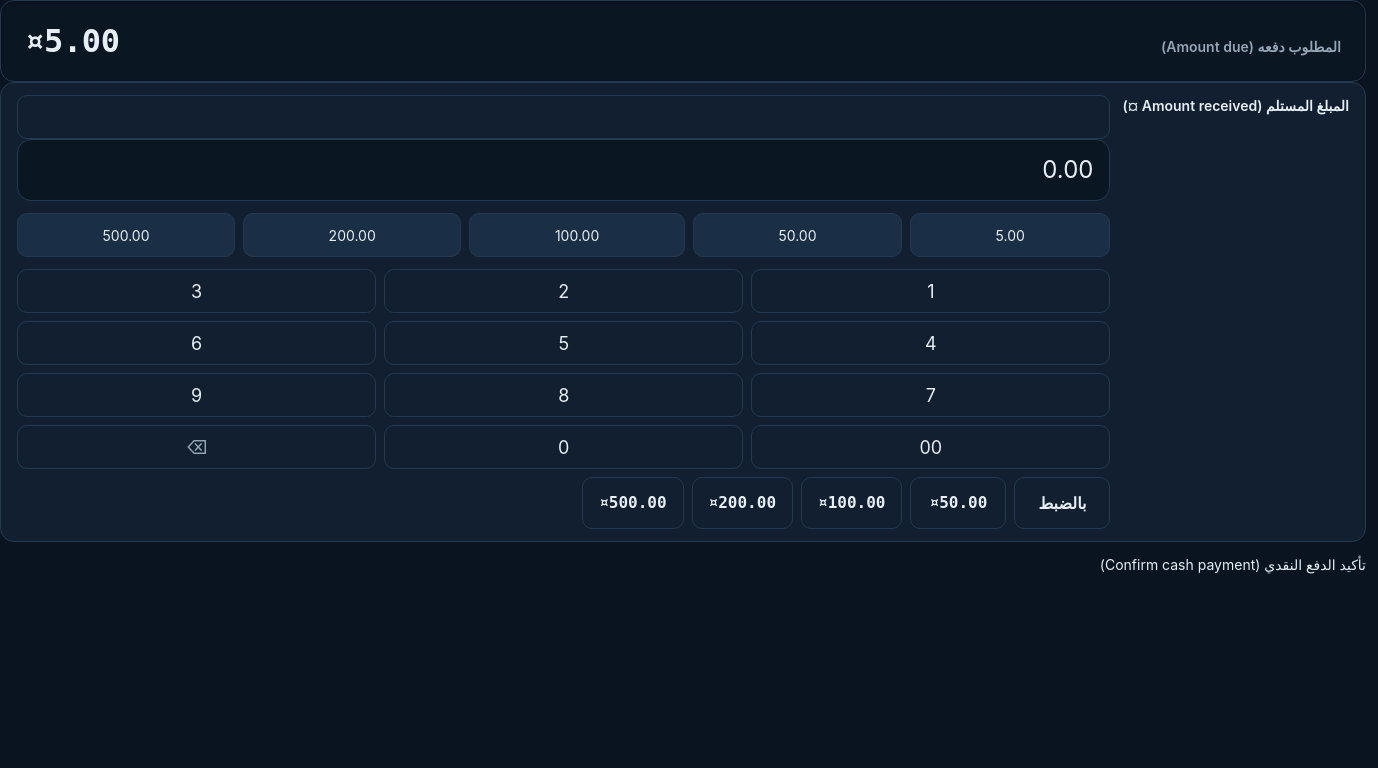
Test: <CashEntry> — AmountPad shared-state integration › pressing pad digits builds the amount and reflects in the text input
# Build 1·2·5·5·0 via the pad → 12550 minor units.
Click the button with test id "amount-pad-key-1": (931, 291) [751, 269, 1110, 313]
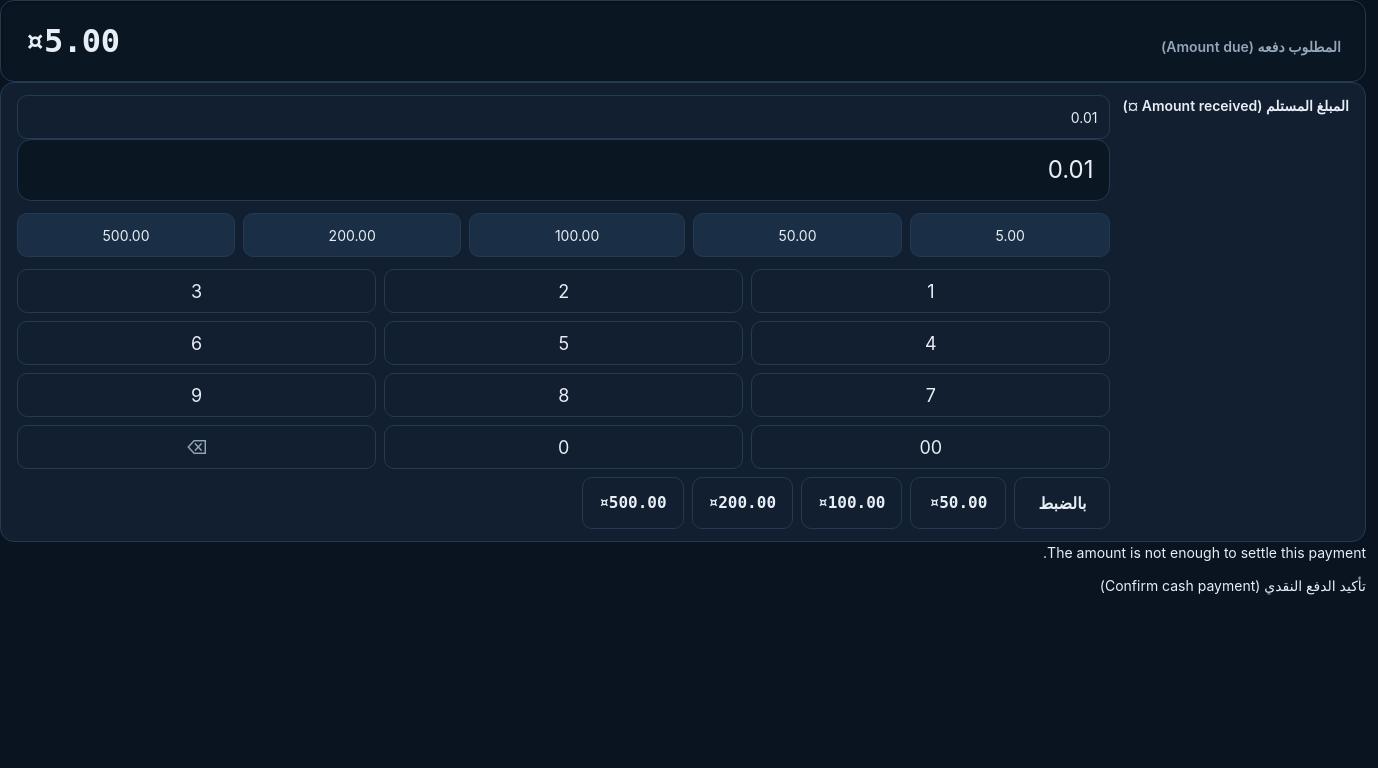
Click the button with test id "amount-pad-key-2": (564, 291) [384, 269, 743, 313]
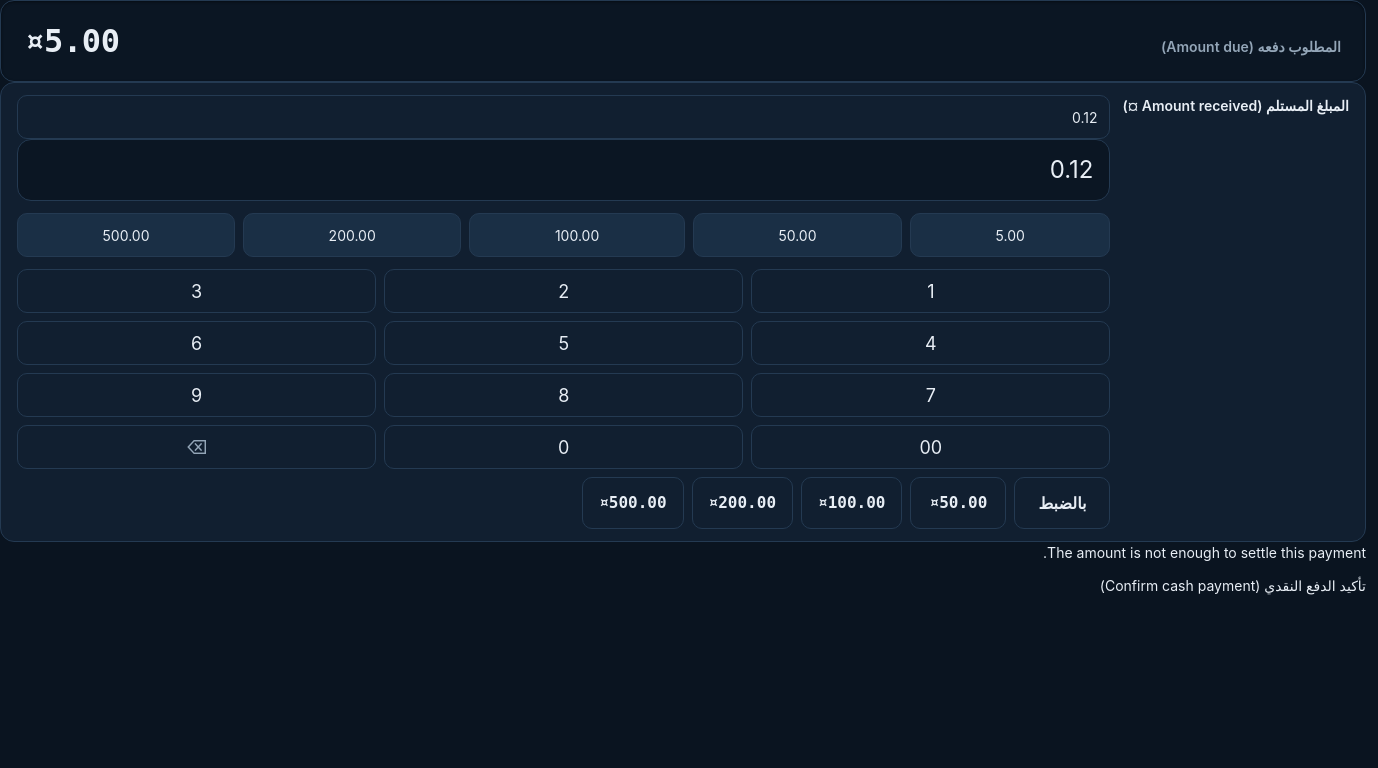
Click the button with test id "amount-pad-key-5": (564, 343) [384, 321, 743, 365]
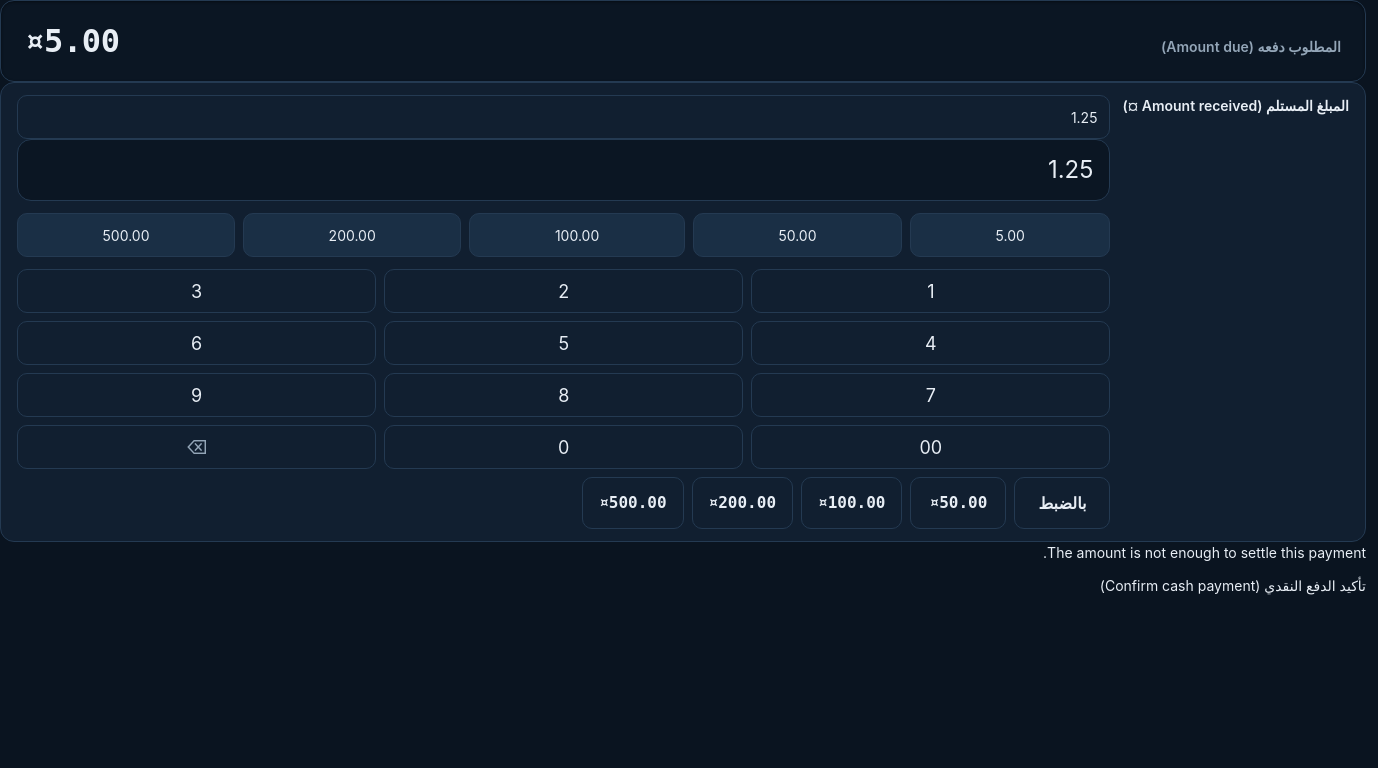
Click the button with test id "amount-pad-key-5": (564, 343) [384, 321, 743, 365]
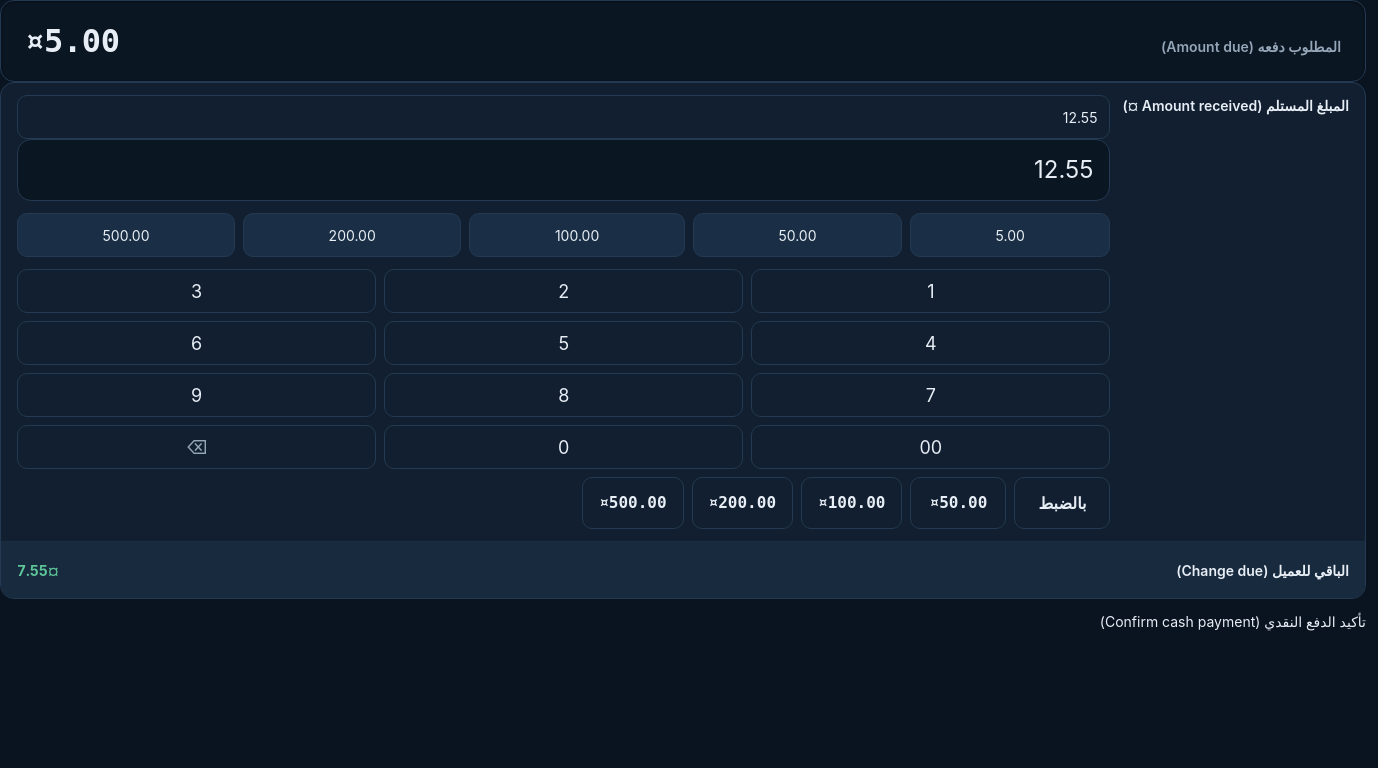
Click the button with test id "amount-pad-key-0": (564, 447) [384, 425, 743, 469]
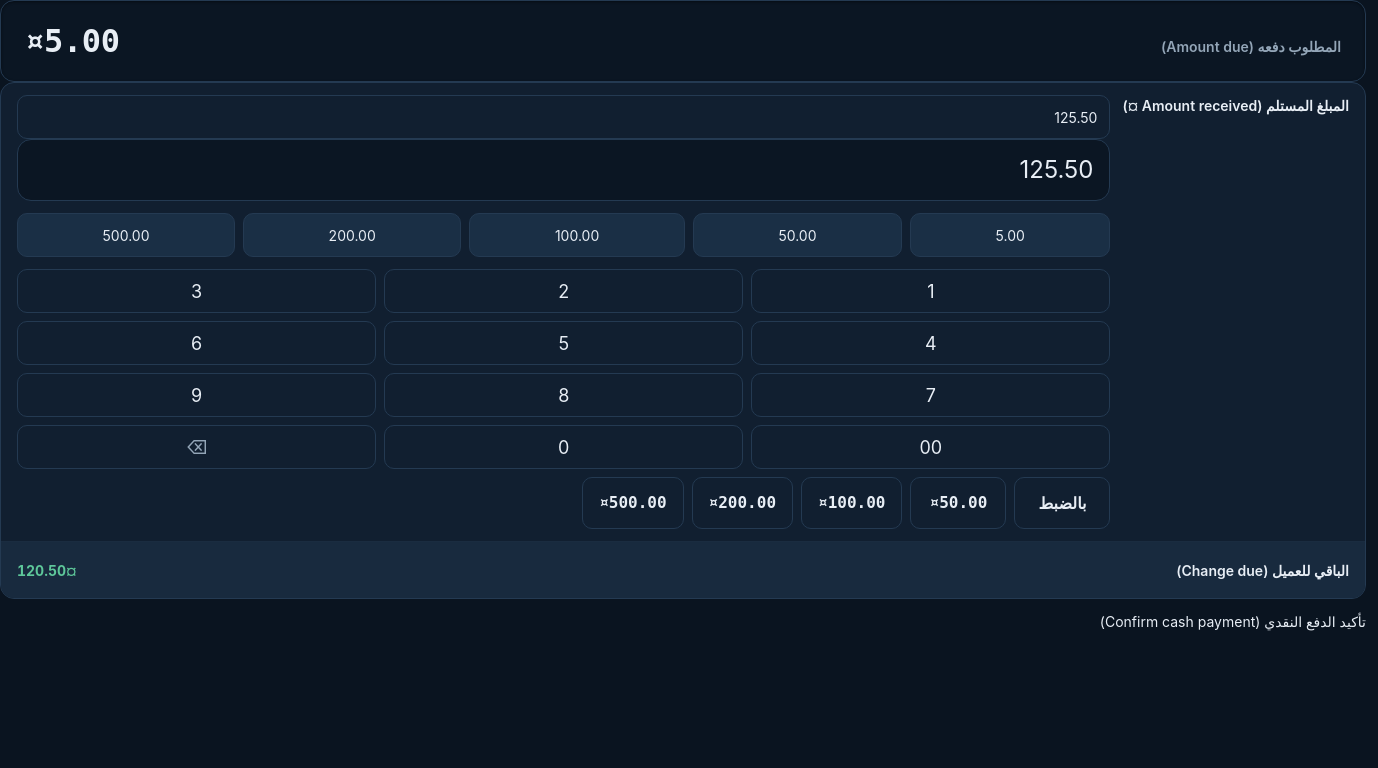
Check: the field with test id "cash-entry-amount-input" holds "125.50", box [17, 95, 1110, 139]
